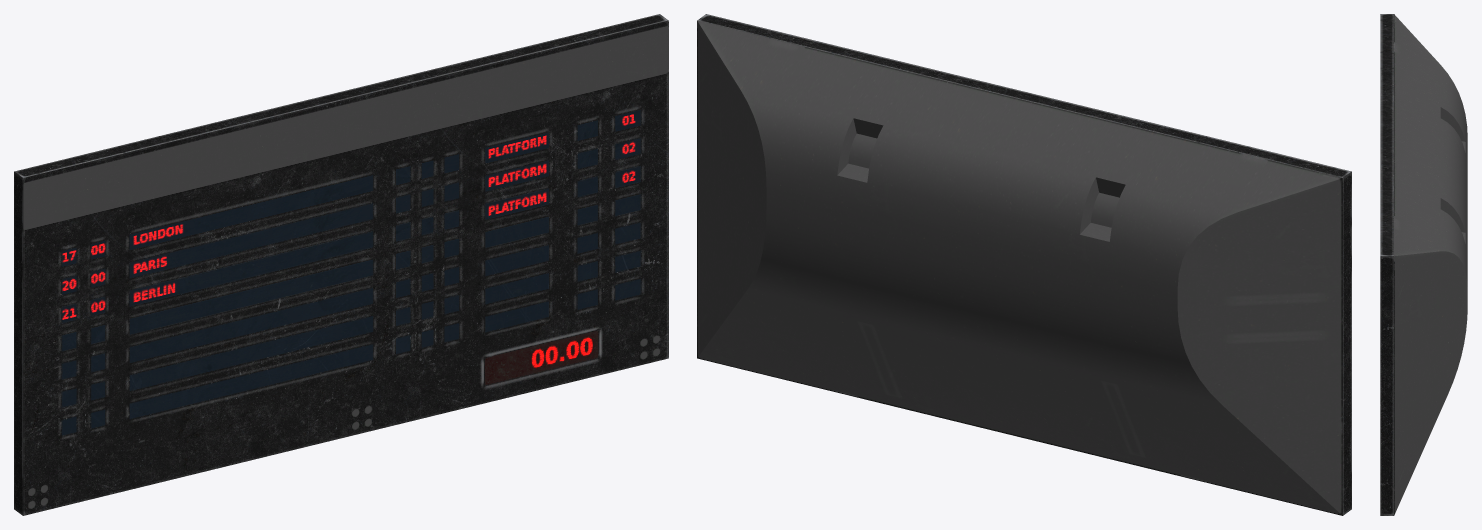
File: SM_InfoTable.FBX
The picture shows the model from 3 angles, left to right: view 1: azimuth 30°, elevation 25°; view 2: azimuth 150°, elevation 25°; view 3: azimuth 270°, elevation 25°; orthographic projection. The views are drawn at different scales.
Visible parts, largest first — view 1: SM_InfoTable; view 2: SM_InfoTable; view 3: SM_InfoTable.
Part boxes in pixels (x1,y1,x2,y2): SM_InfoTable: (14, 14, 668, 515); SM_InfoTable: (697, 14, 1351, 515); SM_InfoTable: (1380, 14, 1467, 515).
Size of the model in its own units: 300 by 45.83 by 150.
